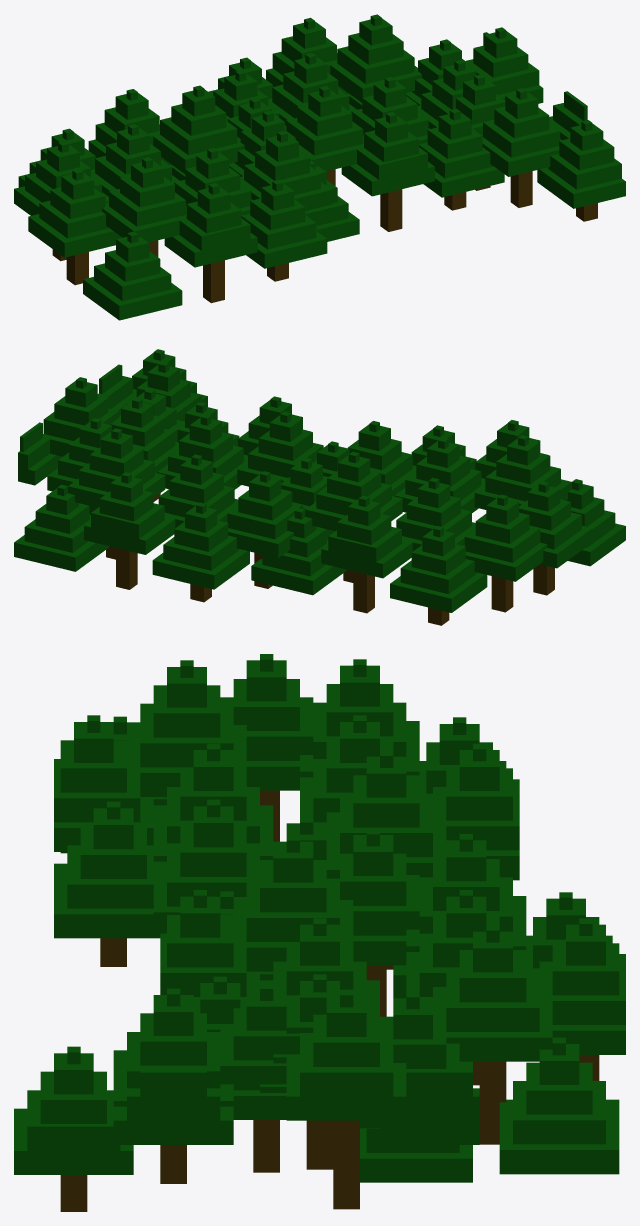
File: NewModel.dae
3 views of the same model, one above another, from view 1: azimuth 30°, elevation 25°; view 2: azimuth 150°, elevation 25°; view 3: azimuth 270°, elevation 25° (orthographic). The views are drawn at different scales.
Size of the model in its own units: 144 by 36 by 92.
1 material, 1 textured.
